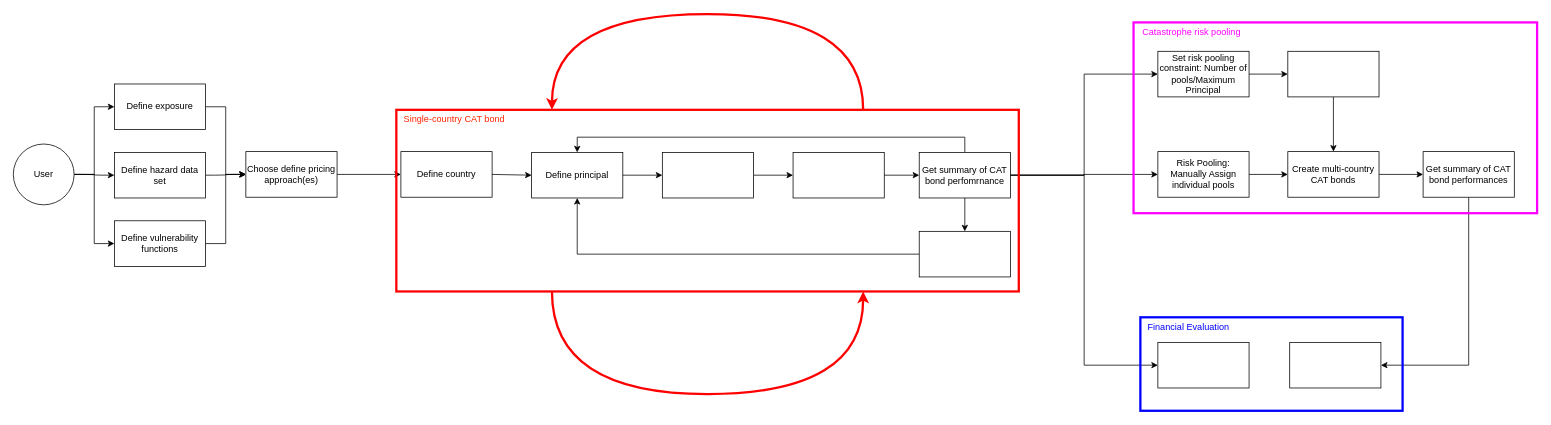
Image size: 1551x425. Some labels were removed from this diagram. The shapes that lost their labels are listed below. From the top down, each one's centre as x and y in pixels, then its label:
At point (1333, 74): "Find optimal pools".
At point (708, 175): "Define attachment point".
At point (838, 175): "Create single-country CAT bond".
At point (964, 254): "Test CAT bond".
At point (1203, 365): "Compare risk-return single assets".
At point (1335, 365): "Compare risk-return to NPF".
